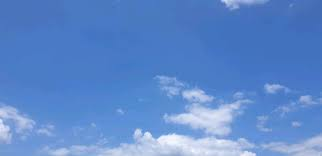sky: (1, 1, 319, 156)
